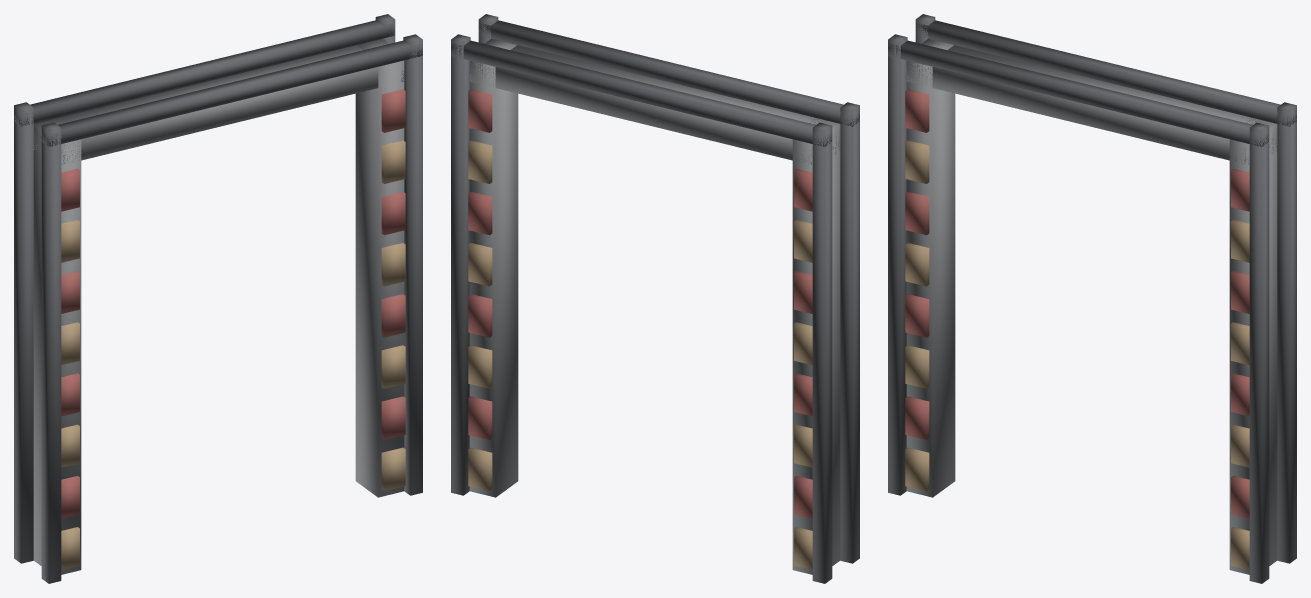
The model's file is doorway_brick_return_w182_h240_d24.glb.
3 renders of one model, left to right at view 1: azimuth 30°, elevation 25°; view 2: azimuth 150°, elevation 25°; view 3: azimuth 330°, elevation 25°, orthographic.
Parts seen in each view (by area): view 1: world; view 2: world; view 3: world.
Part boxes in pixels (x1,y1,x2,y2): world: [14, 14, 422, 583]; world: [451, 14, 859, 583]; world: [888, 14, 1296, 583].
Size of the model in its own units: 2.29 by 2.66 by 0.3706.
